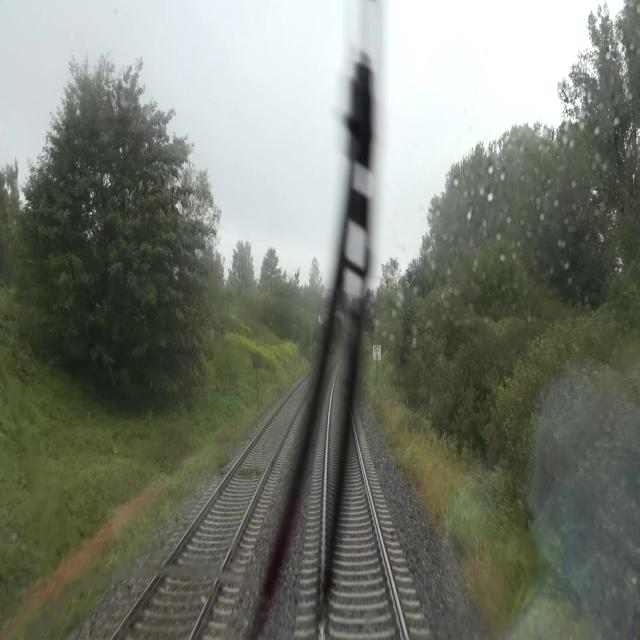rail-track: (114, 385, 301, 639), (325, 411, 404, 639)
